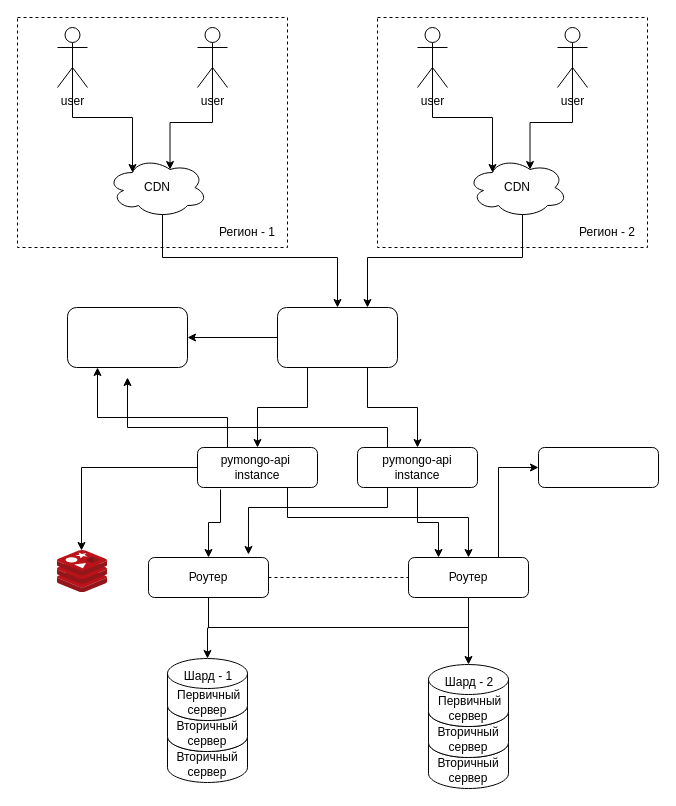
The diagram is 676 pixels wide and 806 high, and some of its shapes have lost their labels. Each missing label, with the box of its shape:
API gateway: (276, 306, 398, 368)
Consul: (66, 306, 188, 368)
redis: (57, 550, 107, 592)
Конфигурационный сервер: (538, 446, 658, 488)
